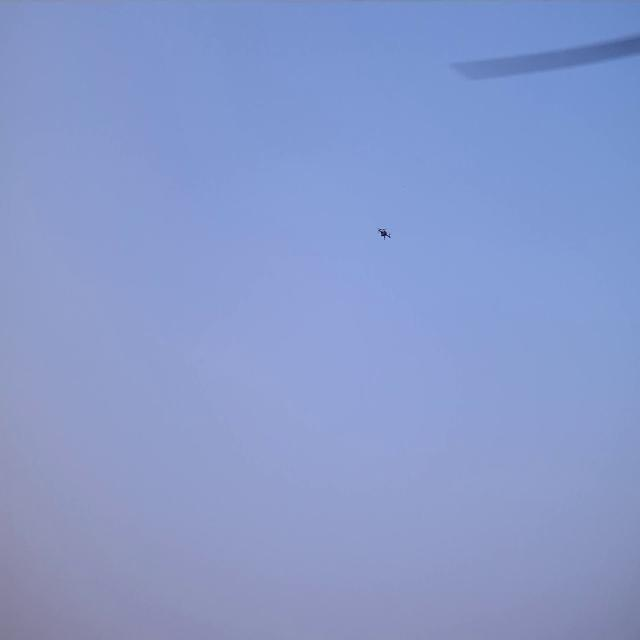UAV: (378, 228, 390, 238)
